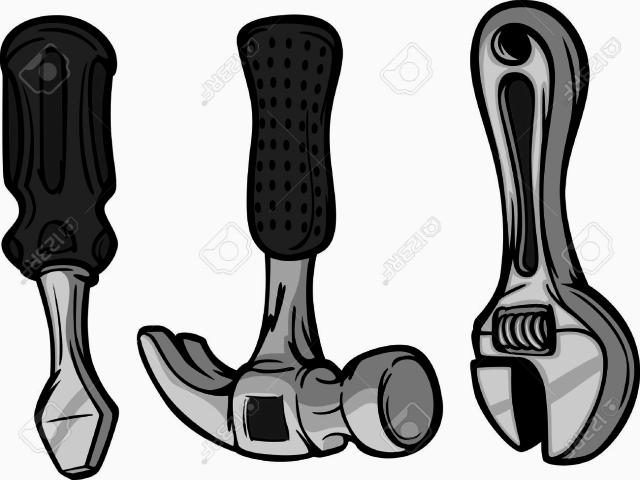Adjustable spanner: (471, 2, 640, 465)
Hammer: (138, 15, 442, 460)
Screwdriver: (0, 16, 118, 479)
